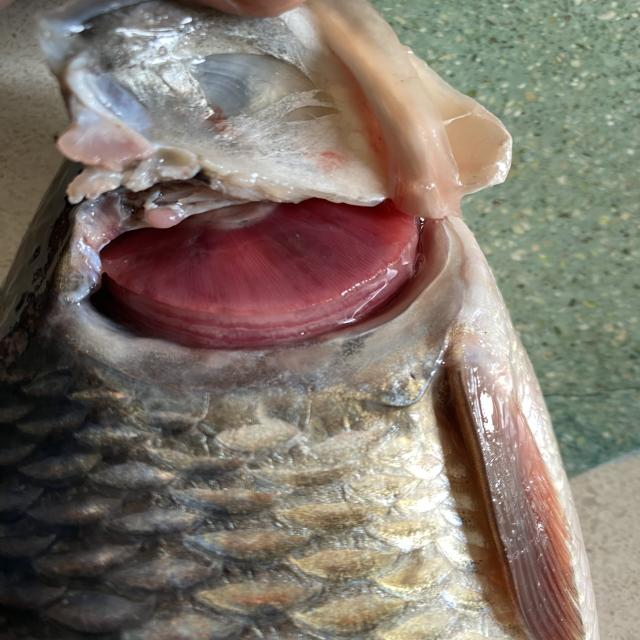Fresh: (71, 171, 472, 335)
